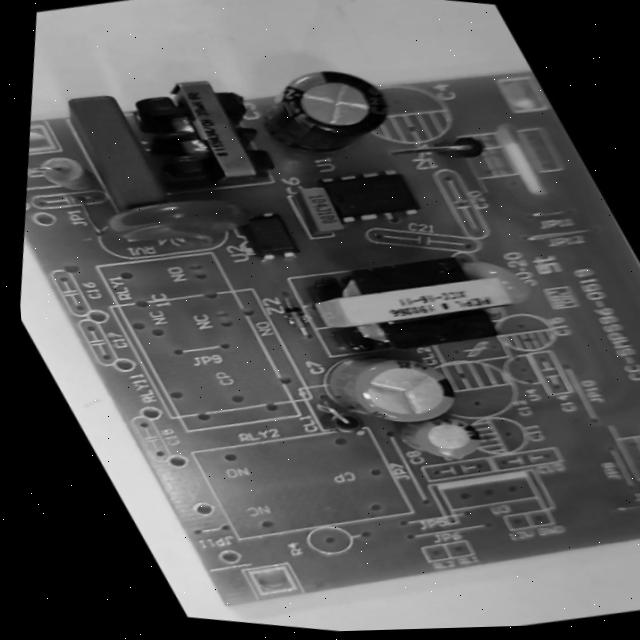Cap1: (303, 334, 479, 446)
Cap2: (388, 404, 496, 472)
Cap3: (240, 49, 420, 173)
MOSFET: (312, 159, 427, 233)
Mov: (92, 175, 257, 265)
Resistor: (23, 145, 104, 204)
Transformer: (287, 233, 538, 381), (110, 60, 294, 198)
